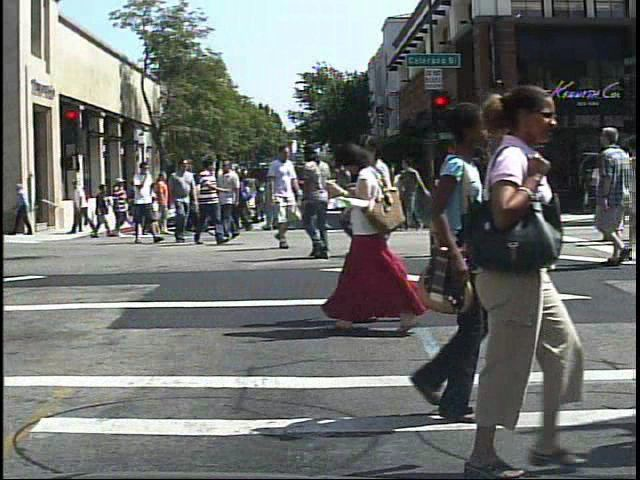person: (440, 80, 587, 480), (322, 138, 430, 342), (361, 128, 409, 333), (459, 134, 508, 262), (293, 134, 340, 262), (597, 119, 635, 268), (337, 148, 383, 261), (261, 141, 303, 251), (188, 153, 227, 247), (590, 145, 623, 248), (126, 157, 162, 246), (167, 156, 201, 248), (108, 176, 132, 241), (75, 182, 95, 229), (532, 139, 533, 248)
